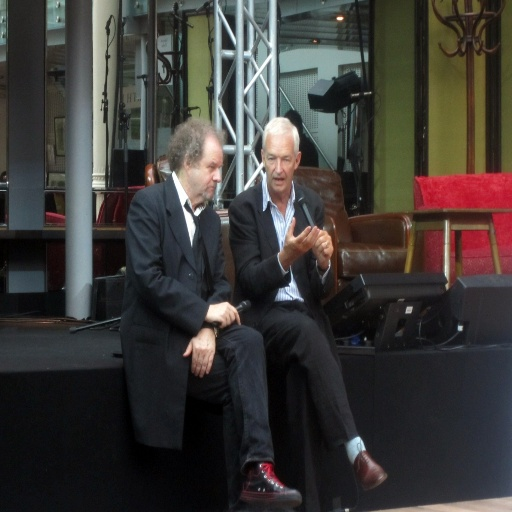hand: (281, 214, 318, 262), (183, 329, 216, 377), (208, 302, 241, 329), (312, 231, 334, 268)
